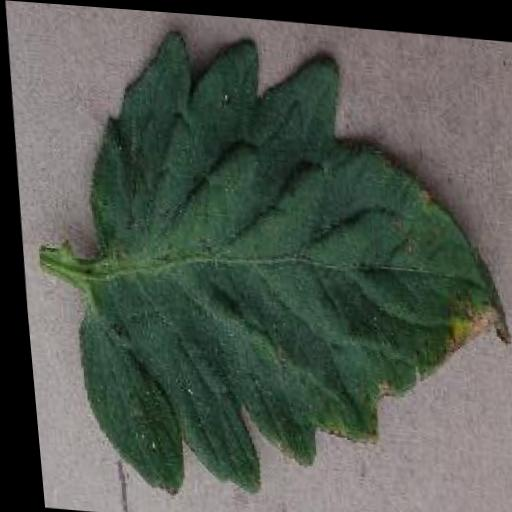Bacterial Spot: (42, 13, 512, 512)
